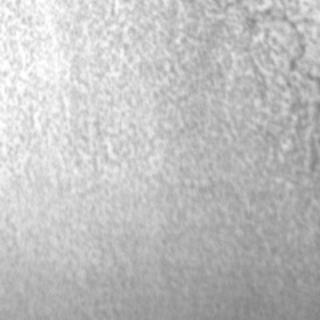pitted_surface: (34, 0, 316, 224)
